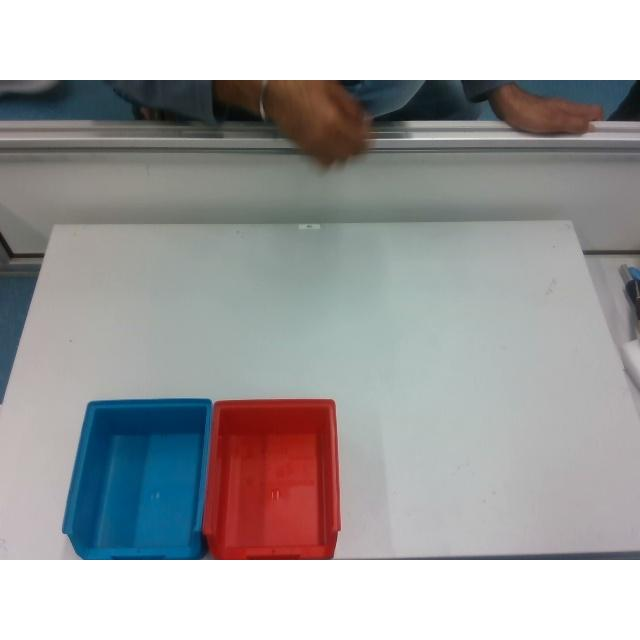container_box_blue: (64, 400, 210, 558)
container_box_red: (205, 400, 338, 558)
